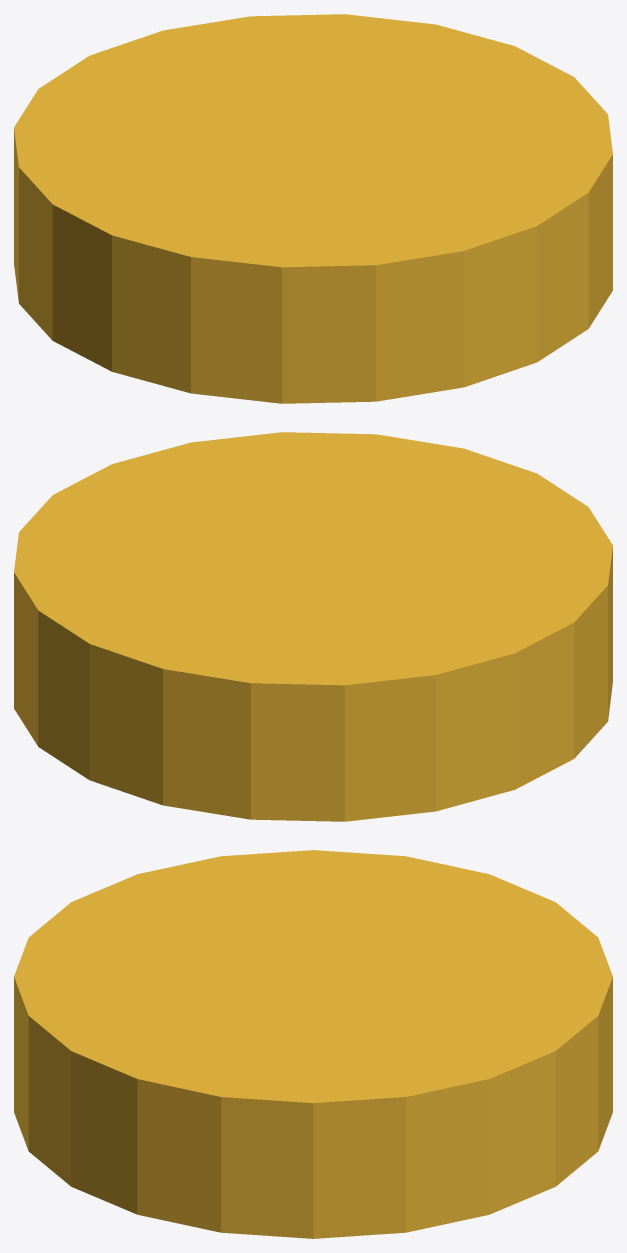
Rendered from Item_OR_Coin_18.glb.
The picture shows the model from 3 angles, top to bottom: view 1: azimuth 30°, elevation 25°; view 2: azimuth 150°, elevation 25°; view 3: azimuth 270°, elevation 25°; orthographic projection.
Parts seen in each view (by area): view 1: Item_OR_Coin_18; view 2: Item_OR_Coin_18; view 3: Item_OR_Coin_18.
Part boxes in pixels (x1=…): Item_OR_Coin_18: x1=14, y1=14, x2=612, y2=403; Item_OR_Coin_18: x1=14, y1=432, x2=612, y2=821; Item_OR_Coin_18: x1=14, y1=850, x2=612, y2=1238.
Size of the model in its own units: 0.038 by 0.0095 by 0.038.
